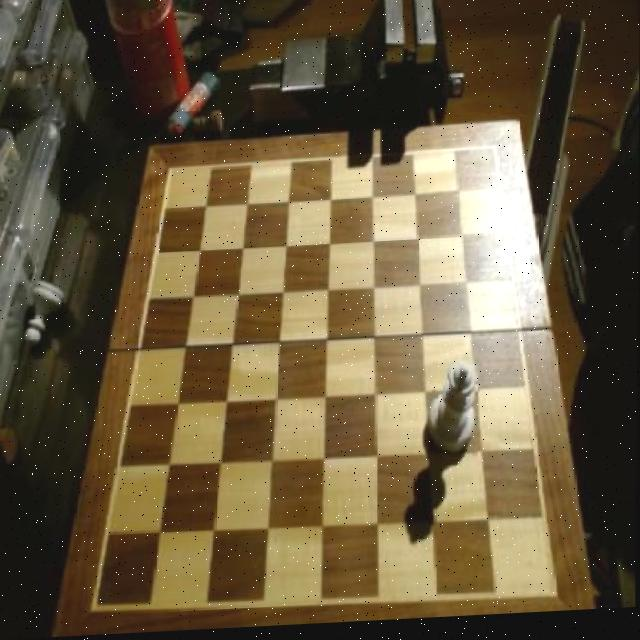white-pawn: (431, 366, 481, 474)
